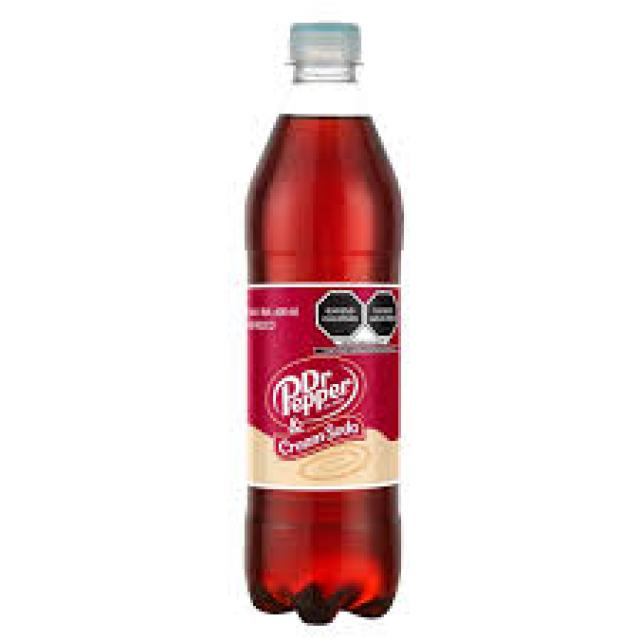Botella: (221, 7, 409, 620)
